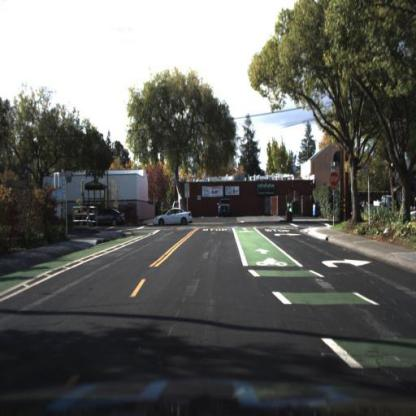car: (362, 192, 415, 223), (156, 206, 195, 230), (90, 204, 126, 227), (216, 196, 237, 224)
